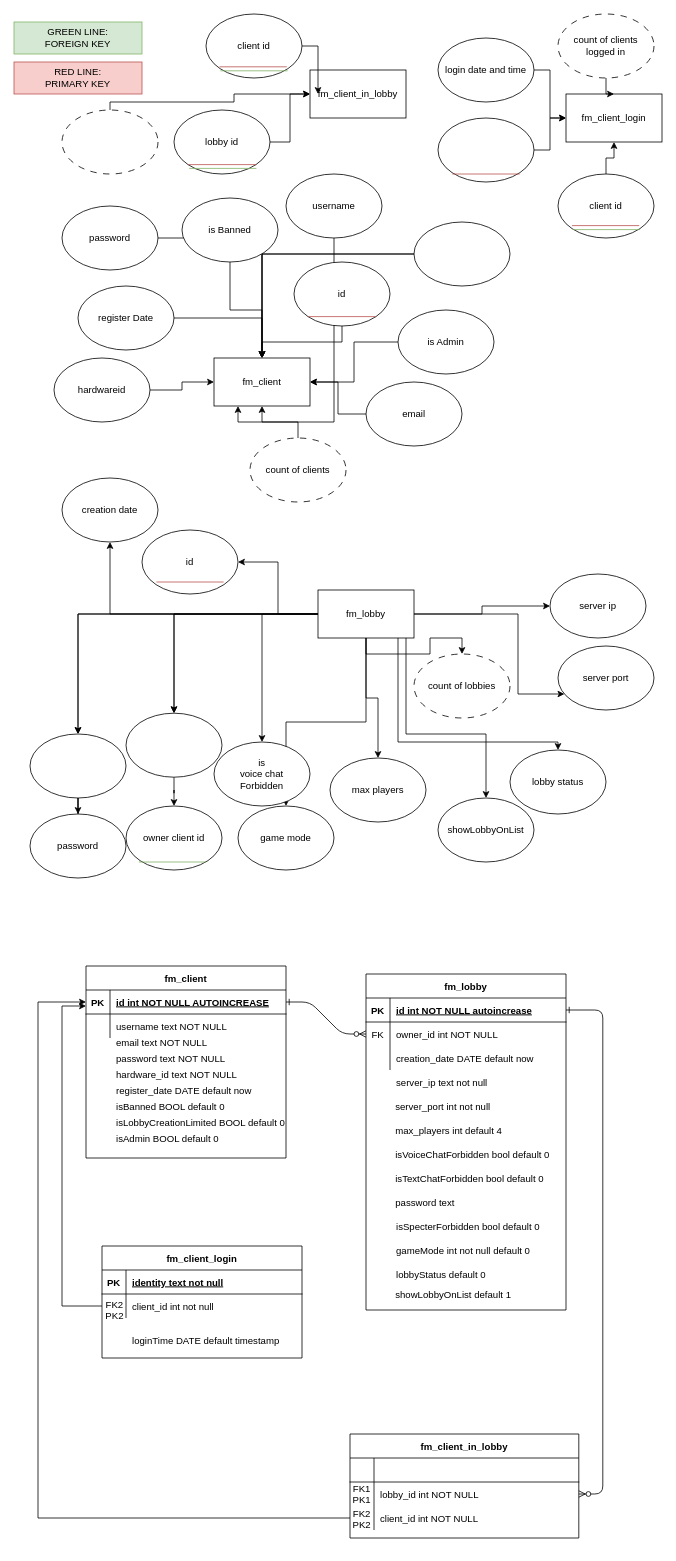
Image size: 676x1561. Some labels were removed from this diagram. Each missing label, with the centre of its shape:
"count of clients are connected to lobbies" goes at [109,141].
"identity" goes at [485,149].
"is Lobby Creation Limited" goes at [461,253].
"is specter Forbidden" goes at [173,744].
"is text chat Forbidden" goes at [77,765].
